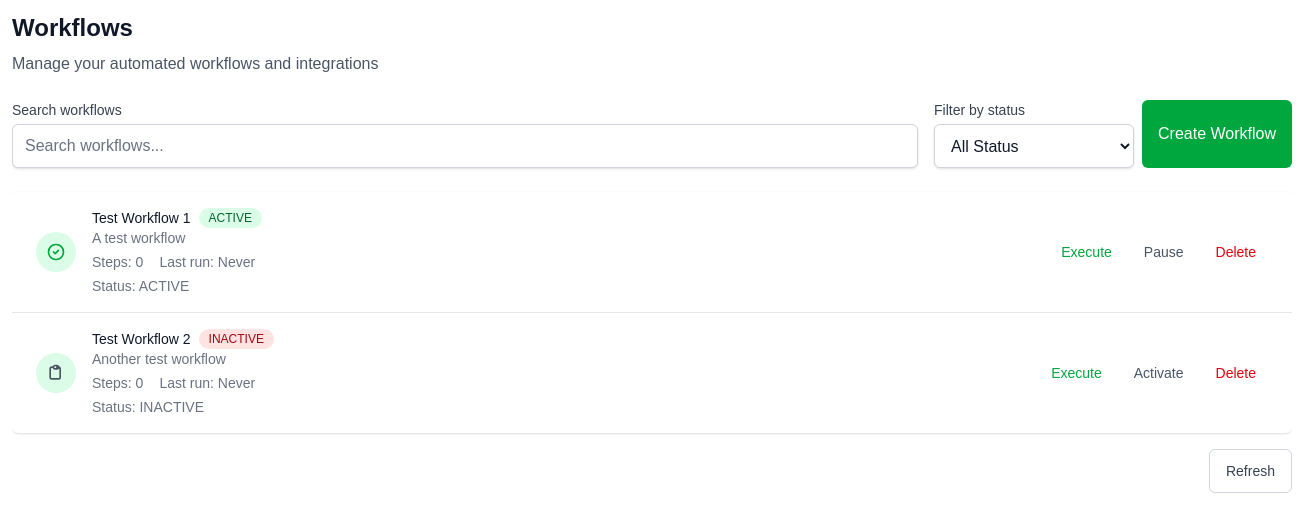
WorkflowsTab › Search and Filter Controls › filters workflows based on search term
The width and height of the screenshot is (1304, 510).
In the field with test id "search-input": (465, 146) [12, 124, 918, 168], type "Test Workflow 1"
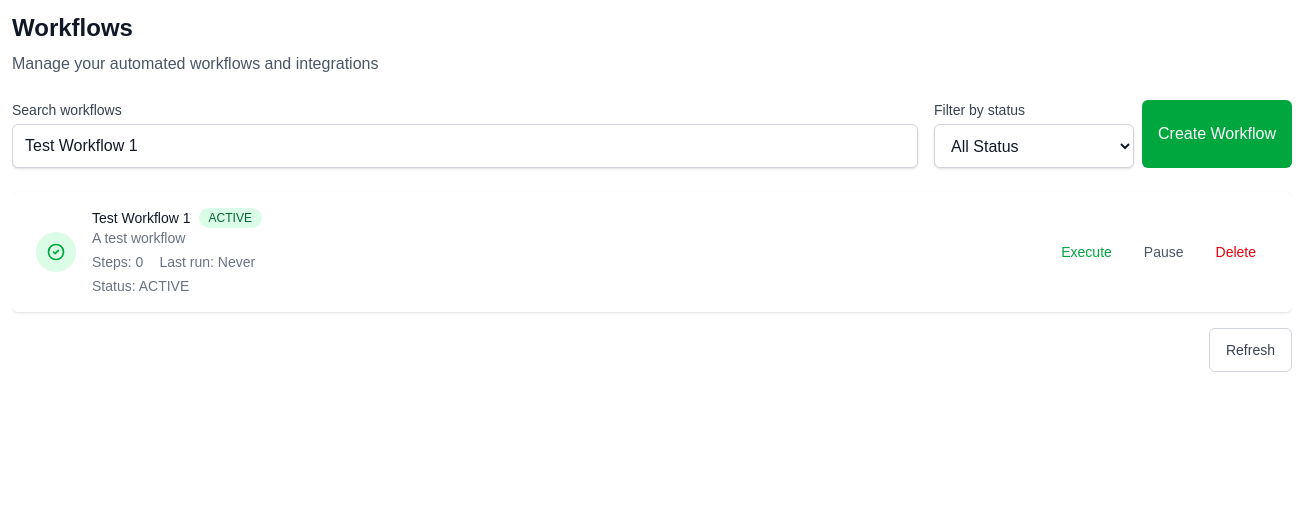
Expected: the text "Test Workflow 1" is shown, [92, 208, 190, 228]
Expected: the link "Test Workflow 2" is gone
